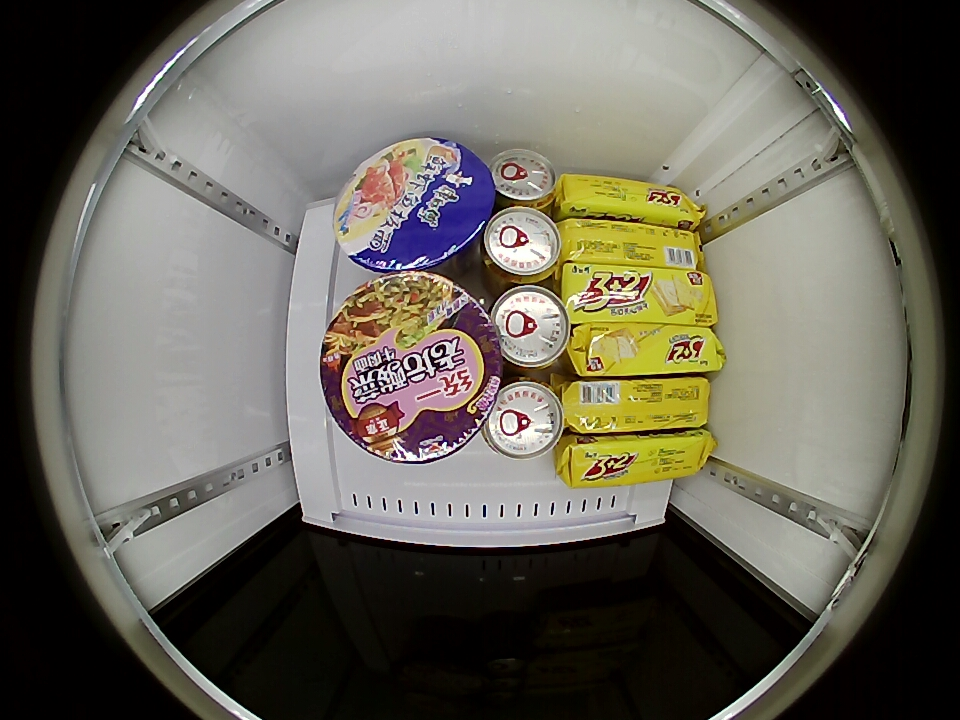3+2-2: (563, 266, 719, 324), (559, 431, 713, 487), (568, 324, 725, 378), (563, 377, 710, 434), (557, 173, 702, 226), (559, 220, 704, 269)
dongpeng: (490, 284, 571, 376), (483, 377, 565, 461), (480, 207, 563, 285), (488, 147, 559, 210)
laotansuancai: (320, 272, 496, 464)
xianxiayuban: (333, 138, 494, 272)
